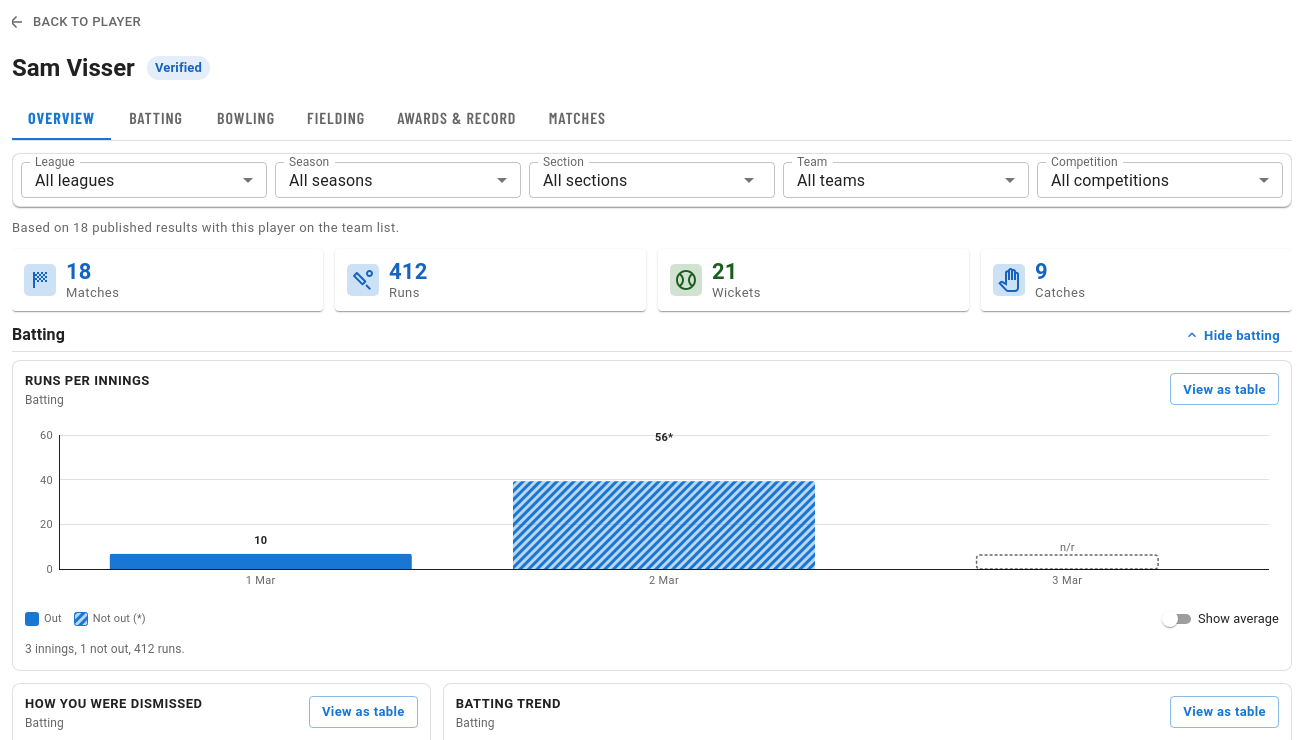
Test: Player Overview tab › layout › the Batting group collapses and expands too
The width and height of the screenshot is (1304, 740).
Expected: the element with test id "dashboard-card-runs-per-innings" is shown, [12, 360, 1292, 671]
Step 1. Click the button with test id "dashboard-group-batting-toggle" → x=1232, y=335, box [1172, 319, 1292, 351]
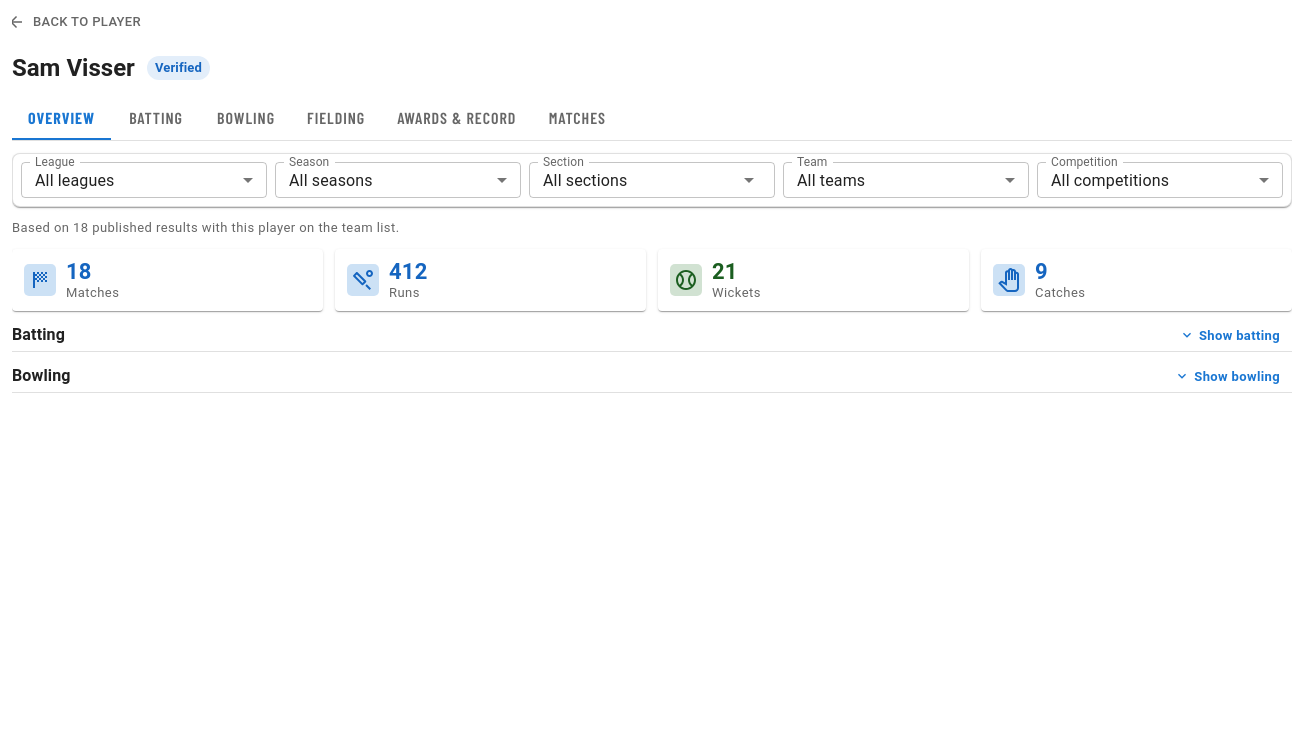
Expected: the element with test id "tile-runs" is shown, [335, 249, 646, 311]
Expected: the button with test id "dashboard-group-batting-toggle" is collapsed, [1167, 319, 1292, 351]
Expected: the element with test id "dashboard-card-runs-per-innings" is gone
